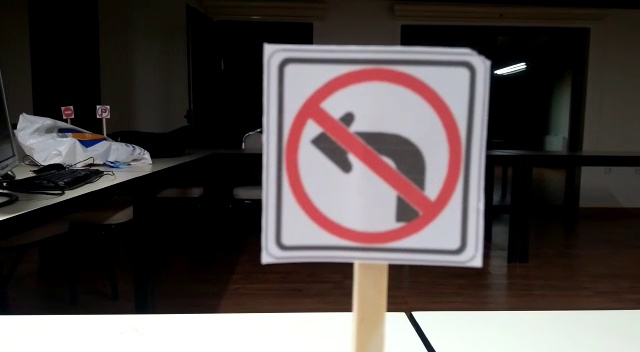sola_donulmez: (270, 58, 473, 251)
